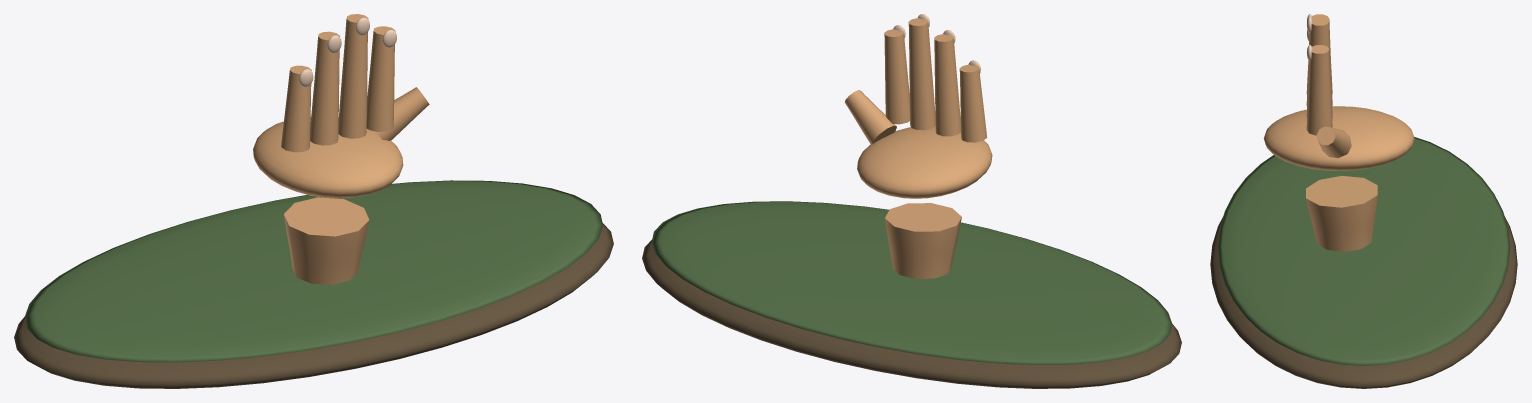
File: hand.glb
3 renders of one model, left to right at view 1: azimuth 30°, elevation 25°; view 2: azimuth 150°, elevation 25°; view 3: azimuth 270°, elevation 25°, orthographic. The views are drawn at different scales.
Parts seen in each view (by area): view 1: hand_surface_01, hand_surface_02, hand_surface_00, hand_surface_03; view 2: hand_surface_01, hand_surface_02, hand_surface_00; view 3: hand_surface_01, hand_surface_02, hand_surface_00.
Boxes of the visible parts, x1,y1,x2,y2 form: hand_surface_01: (24,180,602,362); hand_surface_02: (253,14,429,284); hand_surface_00: (14,223,613,388); hand_surface_03: (299,17,396,86); hand_surface_01: (651,201,1172,365); hand_surface_02: (844,18,992,278); hand_surface_00: (642,240,1181,388); hand_surface_01: (1217,137,1510,365); hand_surface_02: (1263,14,1414,251); hand_surface_00: (1210,216,1517,388).
Size of the model in its own units: 4.68 by 2.47 by 2.48.
